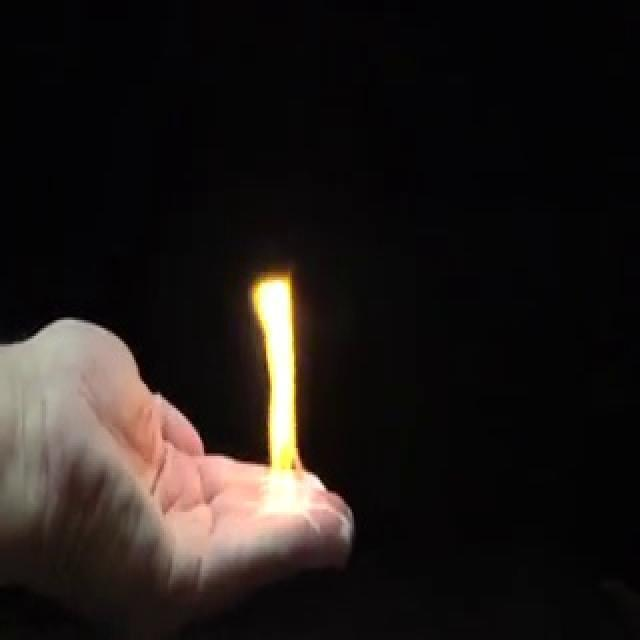fire: (242, 264, 315, 520)
